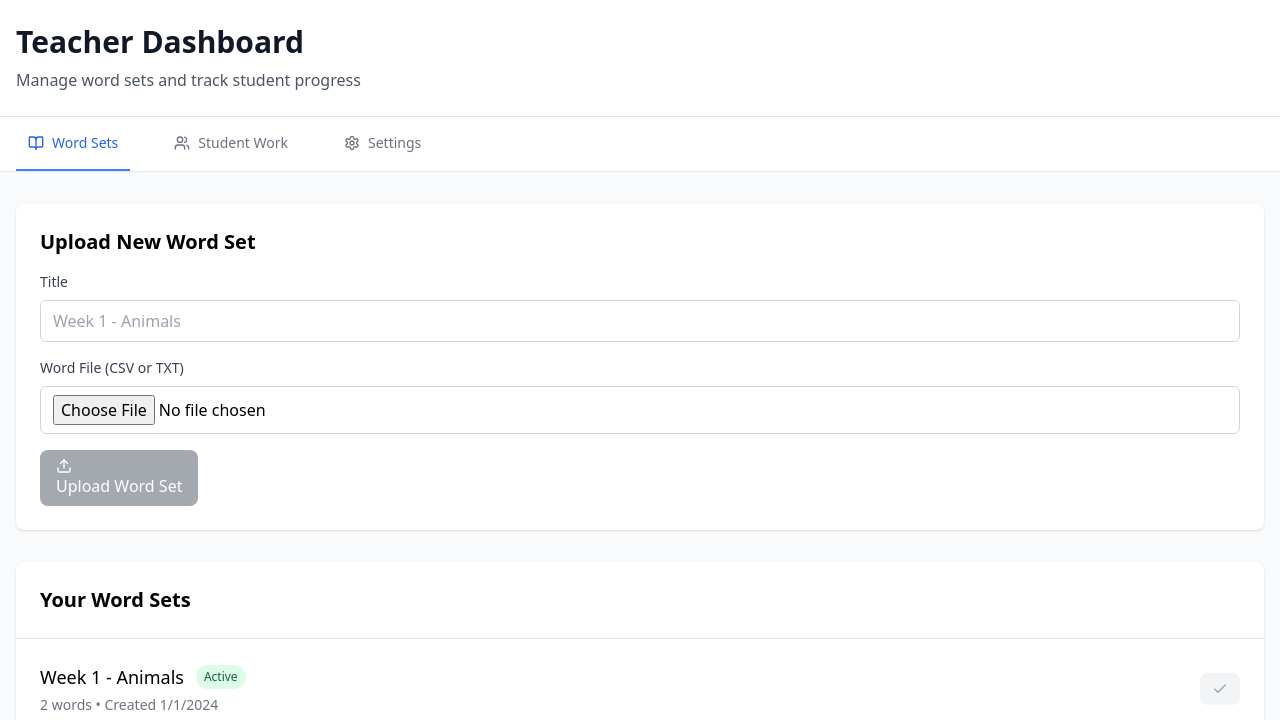
Scenario: TeacherDashboard › displays submission details correctly
Click the button "Student Work": click(231, 144) [162,117,300,171]
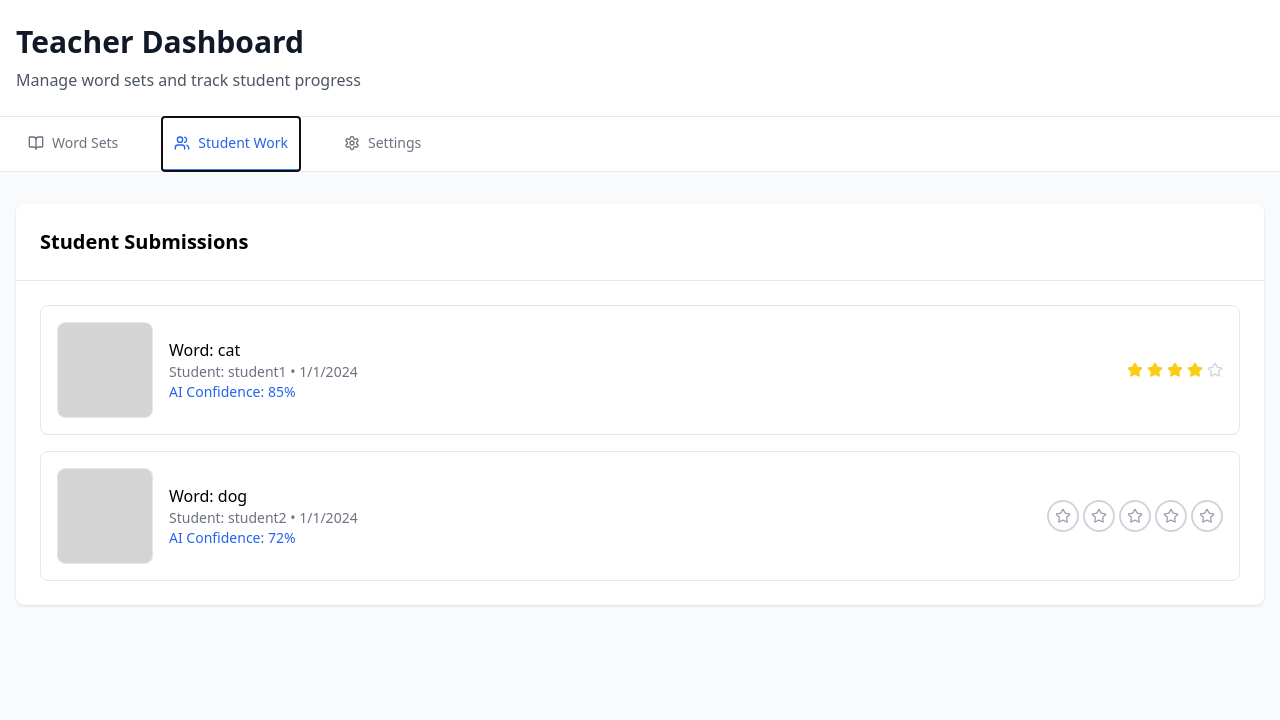
Expected: the heading "Word: cat" is shown, [169,339,240,361]
Expected: the text "AI Confidence: 85%" is shown, [169,382,296,401]
Expected: the text "AI Confidence: 72%" is shown, [169,528,296,547]
